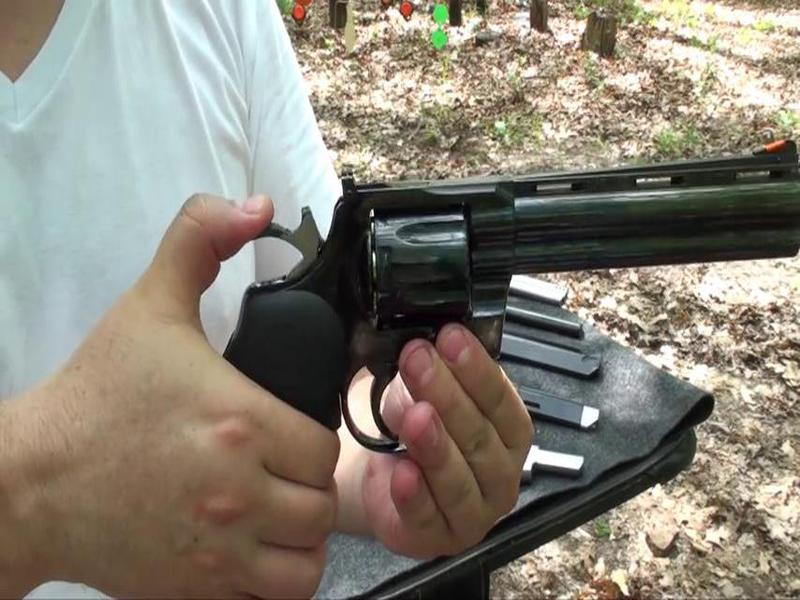Revolver: (228, 143, 800, 437)
